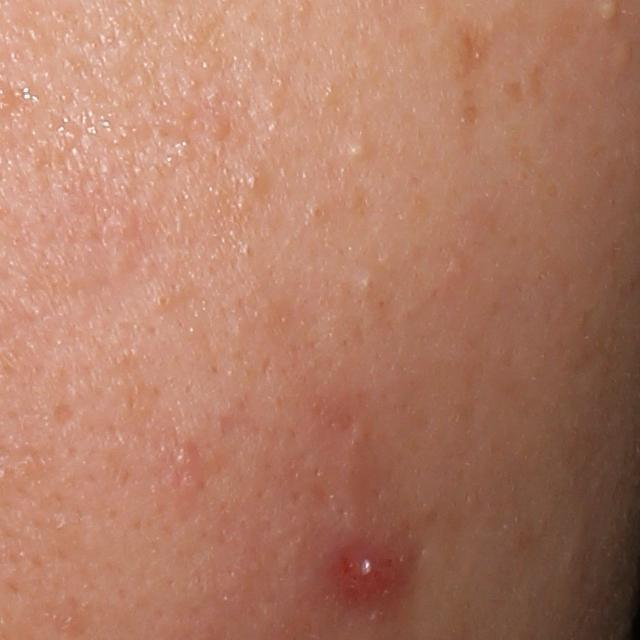atrophic_scar: (454, 29, 488, 85), (51, 402, 80, 429)
comedo: (239, 170, 268, 196), (344, 141, 372, 166), (356, 272, 382, 296), (148, 290, 175, 313), (308, 205, 327, 224)
